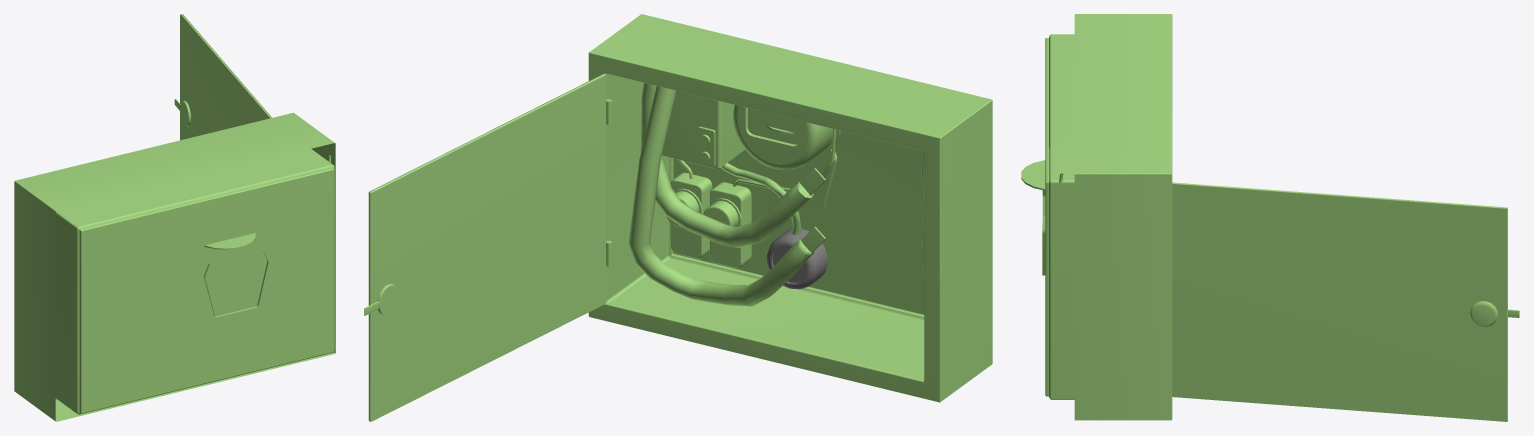
File: ElectroPanel.fbx
The picture shows the model from 3 angles, left to right: view 1: azimuth 30°, elevation 25°; view 2: azimuth 150°, elevation 25°; view 3: azimuth 270°, elevation 25°; orthographic projection. The views are drawn at different scales.
Visible parts, largest first — view 1: ElectroPanelBase, ElectroPaneDoor; view 2: ElectroPanelBase, ElectroPaneDoor, PowerSocket; view 3: ElectroPaneDoor, ElectroPanelBase.
Part boxes in pixels (left/top/right/bottom): ElectroPanelBase: left=14, top=112, right=335, bottom=421; ElectroPaneDoor: left=174, top=14, right=271, bottom=140; ElectroPanelBase: left=588, top=14, right=992, bottom=402; ElectroPaneDoor: left=364, top=73, right=611, bottom=421; PowerSocket: left=767, top=228, right=827, bottom=289; ElectroPaneDoor: left=1172, top=182, right=1519, bottom=421; ElectroPanelBase: left=1021, top=14, right=1172, bottom=420.
Size of the model in its own units: 107 by 68.81 by 126.
